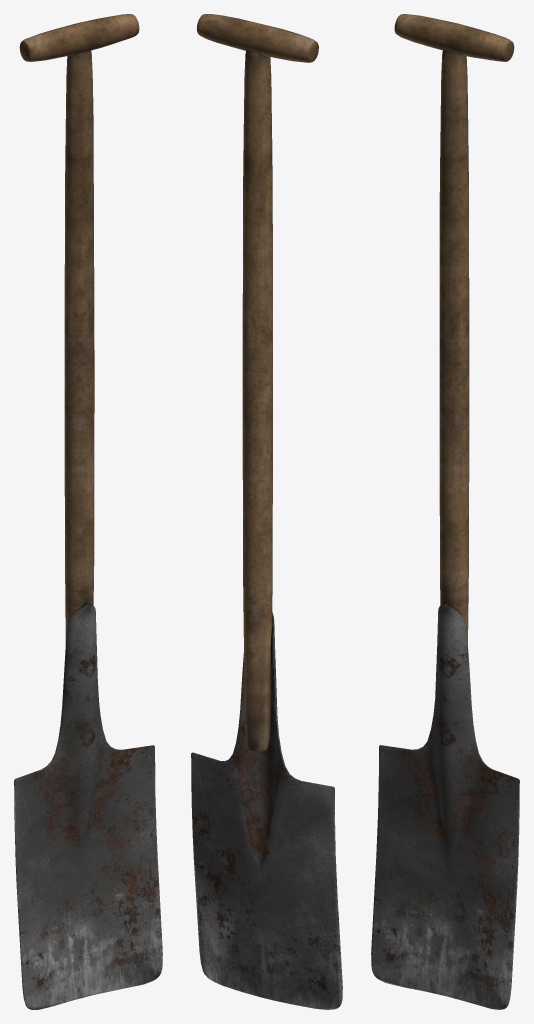
Rendered from spade.glb.
3 views of the same model, side by side, from view 1: azimuth 30°, elevation 25°; view 2: azimuth 150°, elevation 25°; view 3: azimuth 330°, elevation 25° (orthographic). The views are drawn at different scales.
Parts seen in each view (by area): view 1: rusted_spade_01; view 2: rusted_spade_01; view 3: rusted_spade_01.
Boxes of the visible parts, x1,y1,x2,y2 form: rusted_spade_01: (14, 14, 162, 1009); rusted_spade_01: (191, 14, 342, 1009); rusted_spade_01: (371, 14, 519, 1009).
Bounding box in the file's own units: 0.1681 × 1.1 × 0.0453.
Materials: 1 (1 with a texture image).
